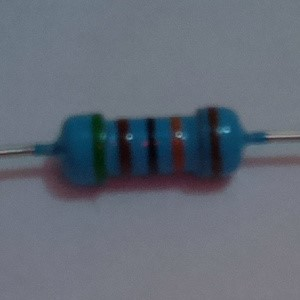black_band: (144, 115, 160, 178)
brown_band: (205, 104, 224, 179), (115, 117, 135, 179)
green_band: (89, 112, 108, 185)
orange_band: (168, 115, 187, 176)
